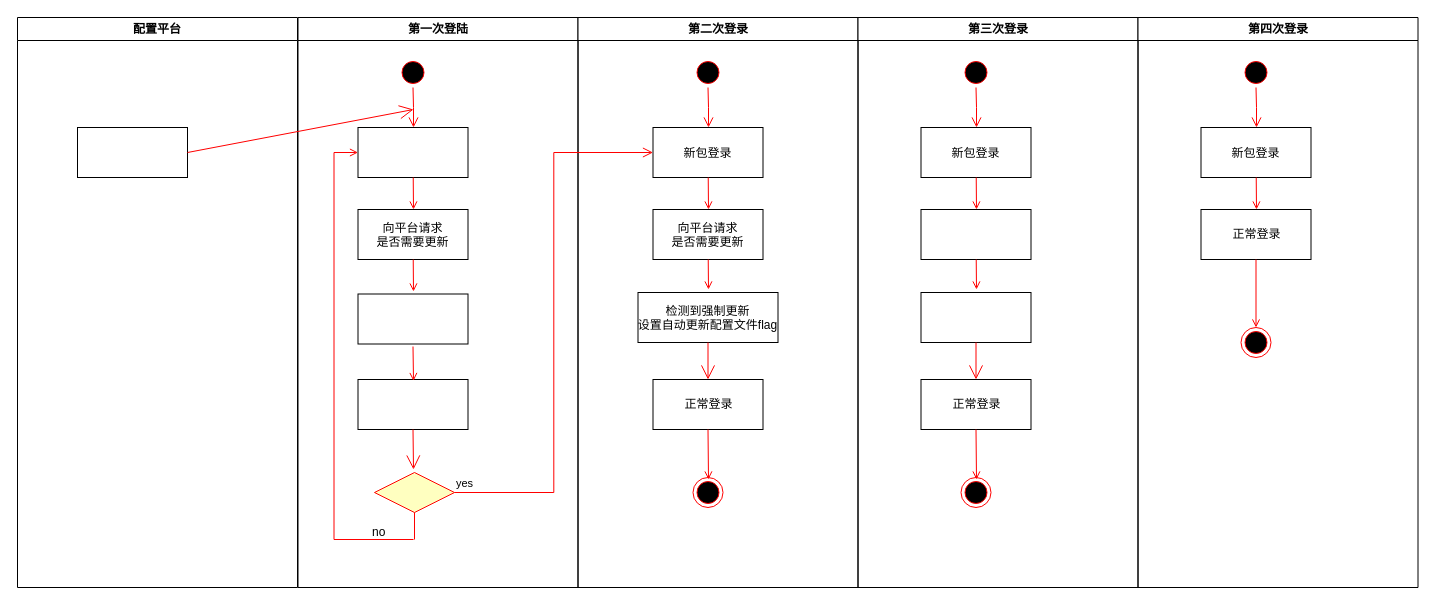
Some shapes in this 1436 by 605 pixel diagram are drawn without their labels. The shapes that lost their labels are listed below. From the top down, each one's centre as x and y in pixels, then its label:
pixel 132 152: 推送强制升级 同时修改配置文件
pixel 412 152: 旧包登录
pixel 975 234: 检测到自动更新 配置文件的flag置位
pixel 412 318: 检测到强制更新 弹出强制更新的提示
pixel 975 317: 自动下载配置文
pixel 412 404: 跳转到App Store 进行更新
pixel 414 492: 更新成功
